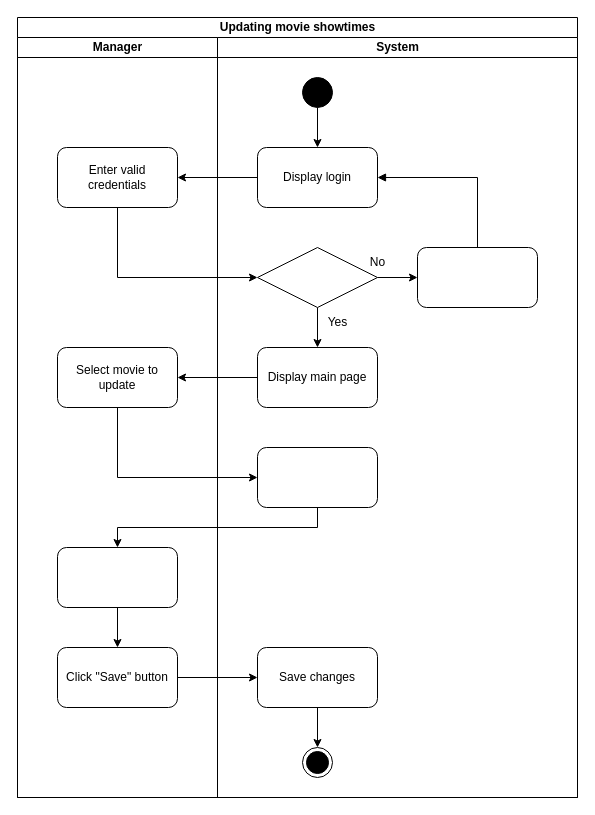
Some shapes in this 595 by 815 pixel diagram are drawn without their labels. The shapes that lost their labels are listed below. From the top down, each one's box as (x1, y1, x2, y2) in pixels, then its label:
(256, 246, 378, 308): Valid?
(416, 246, 538, 308): Display error
(256, 446, 378, 508): Display showtime window
(56, 546, 178, 608): Update showtimes
